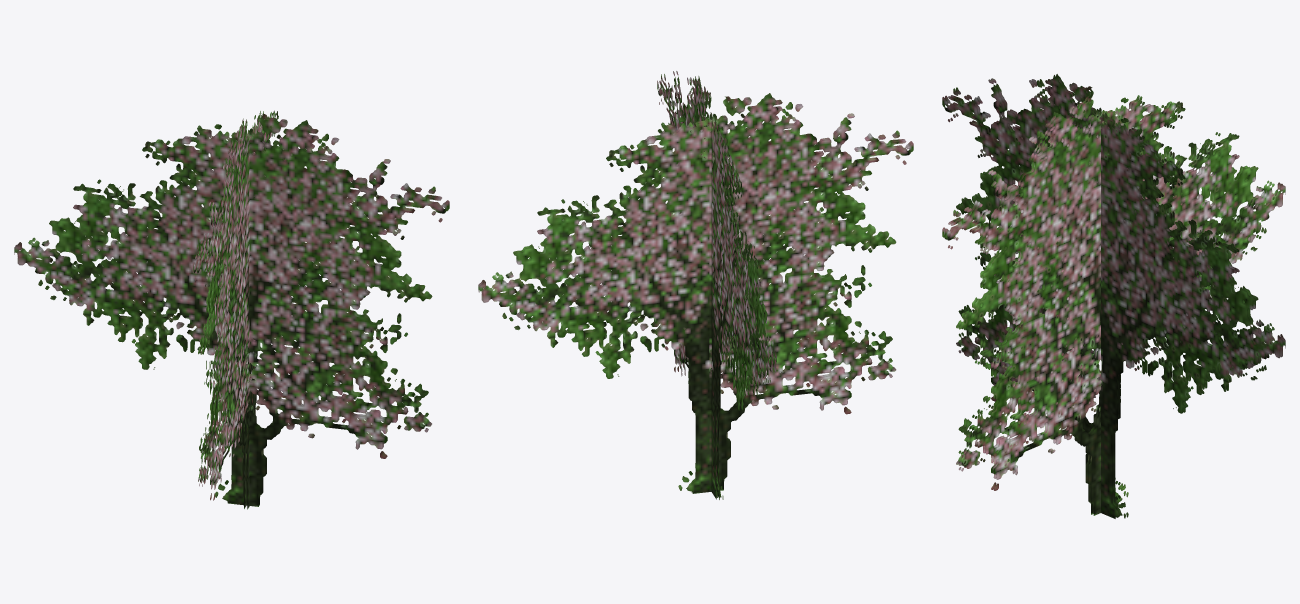
File: tree073.fbx
3 renders of one model, left to right at view 1: azimuth 30°, elevation 25°; view 2: azimuth 150°, elevation 25°; view 3: azimuth 270°, elevation 25°, orthographic. The views are drawn at different scales.
Parts seen in each view (by area): view 1: tree073; view 2: tree073; view 3: tree073.
Part boxes in pixels (x1,y1,x2,y2): tree073: (14, 110, 449, 509); tree073: (478, 71, 913, 499); tree073: (942, 74, 1285, 518).
Size of the model in its own units: 259 by 335 by 241.
1 material, 1 textured.
